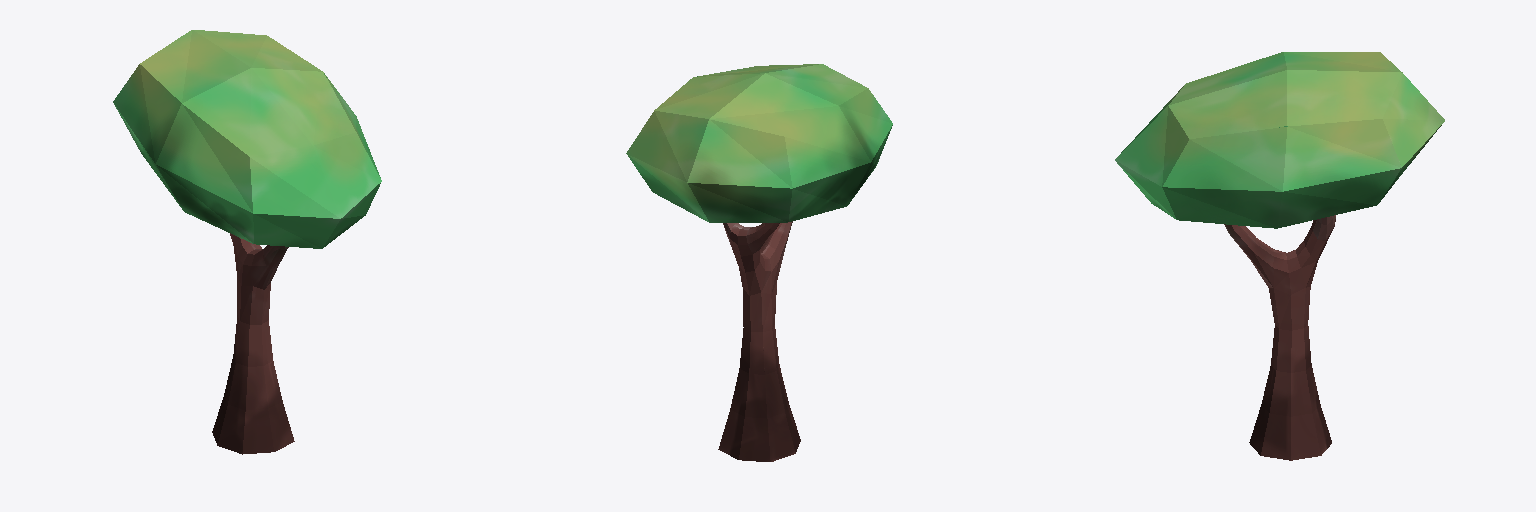
3 renders of one model, left to right at view 1: azimuth 30°, elevation 25°; view 2: azimuth 150°, elevation 25°; view 3: azimuth 270°, elevation 25°, orthographic.
Parts seen in each view (by area): view 1: Cube_Cube.001; view 2: Cube_Cube.001; view 3: Cube_Cube.001.
Part boxes in pixels (bbox=[...]): Cube_Cube.001: bbox=[113, 30, 381, 454]; Cube_Cube.001: bbox=[626, 64, 892, 461]; Cube_Cube.001: bbox=[1115, 52, 1444, 460].
Size of the model in its own units: 6.97 by 12.14 by 9.81.
1 materials, 1 textured.